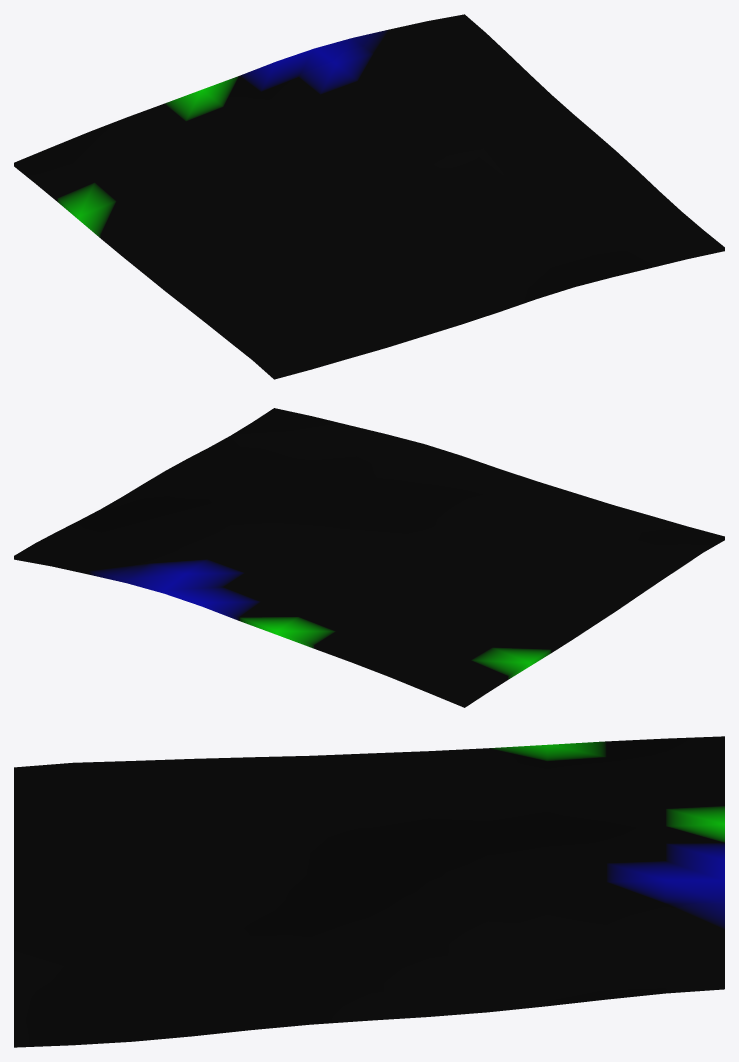
File: coast_13_0.glb
The picture shows the model from 3 angles, top to bottom: view 1: azimuth 30°, elevation 25°; view 2: azimuth 150°, elevation 25°; view 3: azimuth 270°, elevation 25°; orthographic projection. The views are drawn at different scales.
Parts seen in each view (by area): view 1: terrain; view 2: terrain; view 3: terrain.
Boxes of the visible parts, x1,y1,x2,y2 form: terrain: (14, 14, 724, 379); terrain: (14, 408, 724, 707); terrain: (14, 736, 724, 1047).
Bounding box in the file's own units: 192 × 28.04 × 192.
